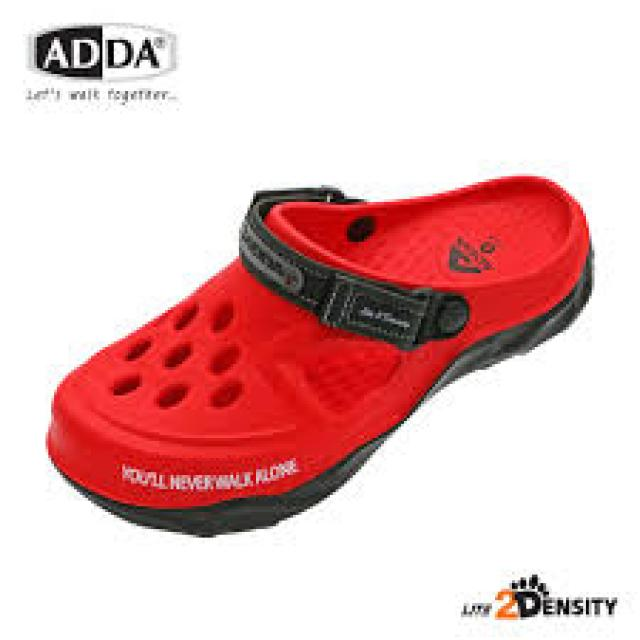shoe: (43, 171, 590, 538)
